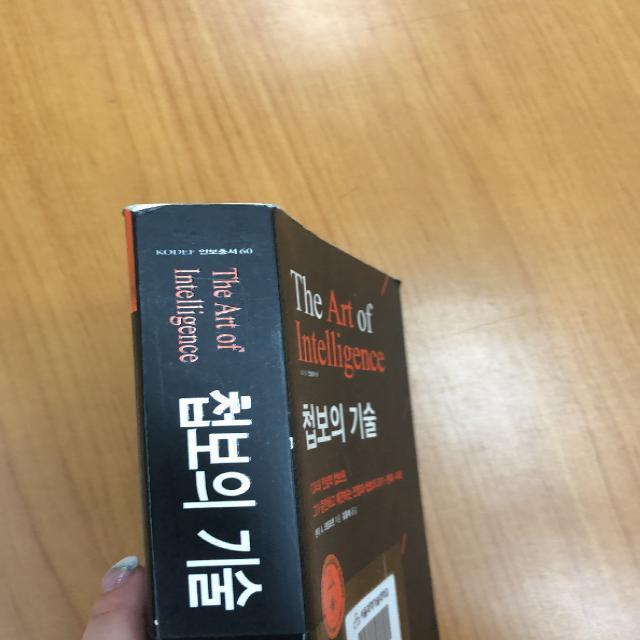Wornout: (115, 196, 289, 217), (280, 433, 304, 457), (385, 274, 413, 288), (149, 616, 170, 629)
